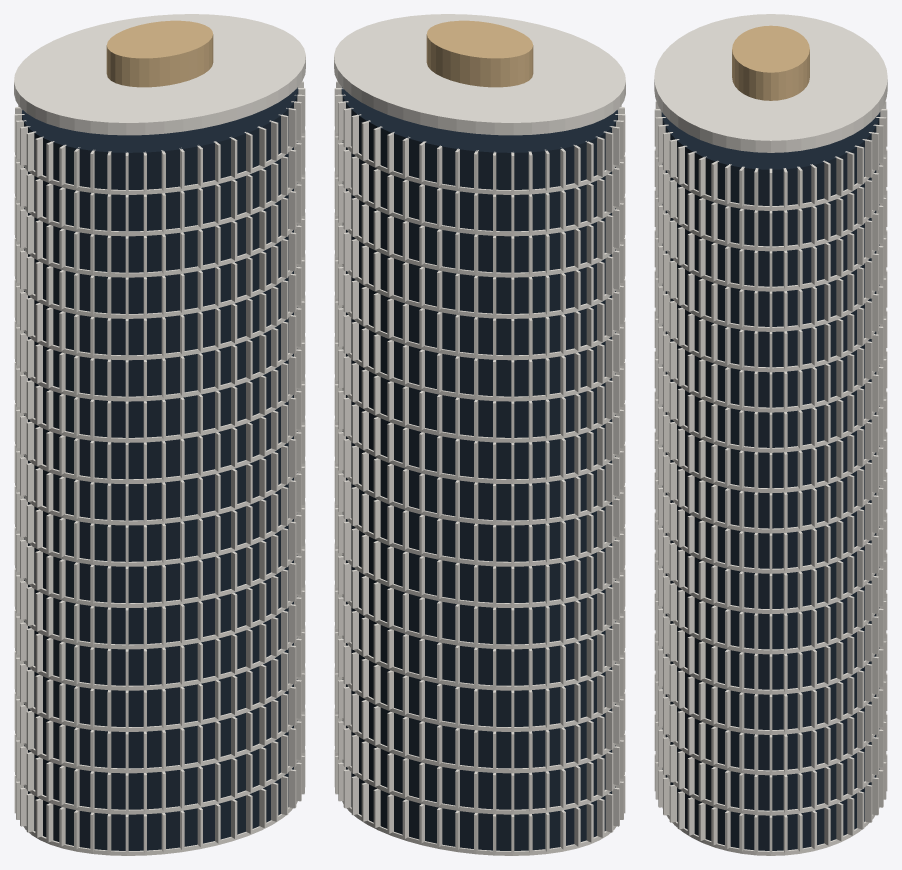
File: tower_round.glb
The picture shows the model from 3 angles, left to right: view 1: azimuth 30°, elevation 25°; view 2: azimuth 150°, elevation 25°; view 3: azimuth 270°, elevation 25°; orthographic projection. The views are drawn at different scales.
Visible parts, largest first — view 1: TowerRound; view 2: TowerRound; view 3: TowerRound.
Part boxes in pixels (bbox=[...]): TowerRound: bbox=[14, 14, 305, 855]; TowerRound: bbox=[334, 14, 625, 855]; TowerRound: bbox=[654, 14, 887, 855].
Size of the model in its own units: 27 by 74 by 21.
